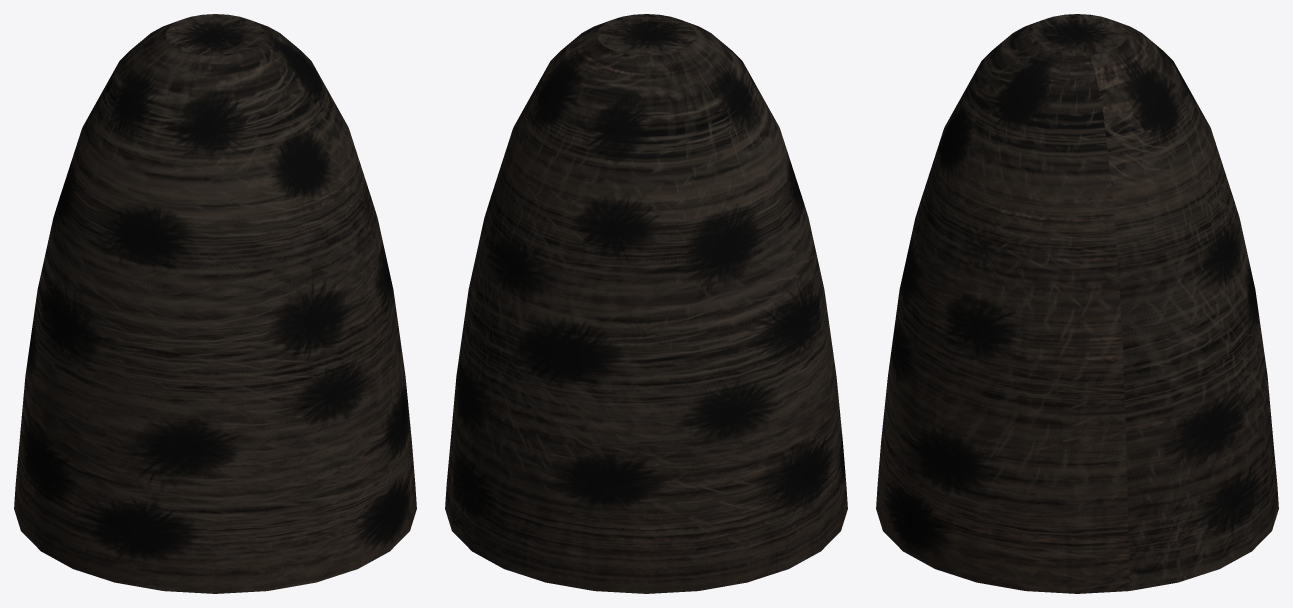
Rendered from kopiec.FBX.
3 views of the same model, side by side, from view 1: azimuth 30°, elevation 25°; view 2: azimuth 150°, elevation 25°; view 3: azimuth 270°, elevation 25° (orthographic).
Visible parts, largest first — view 1: Cone001; view 2: Cone001; view 3: Cone001.
Boxes of the visible parts, left/top/right/bottom form: Cone001: left=14, top=14, right=416, bottom=593; Cone001: left=445, top=14, right=847, bottom=593; Cone001: left=876, top=14, right=1278, bottom=593.
Size of the model in its own units: 32.01 by 41.53 by 32.01.
Materials: 1 (1 with a texture image).
